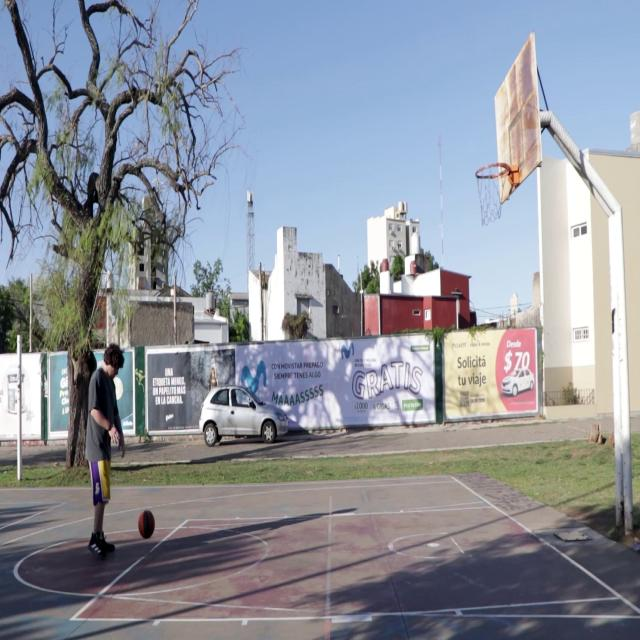ball: (138, 510, 155, 539)
